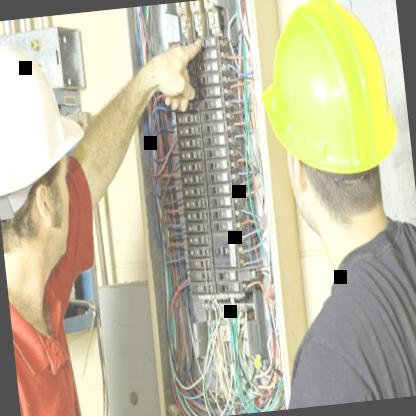helmet: (232, 0, 416, 288), (0, 11, 120, 337)
